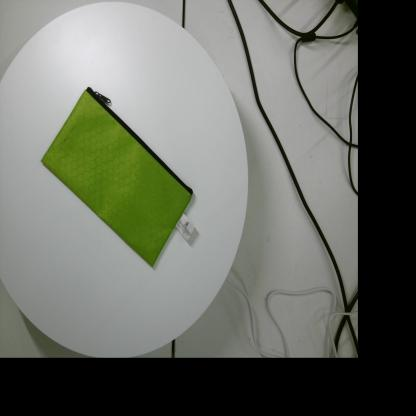Stationery: (41, 86, 196, 268)
